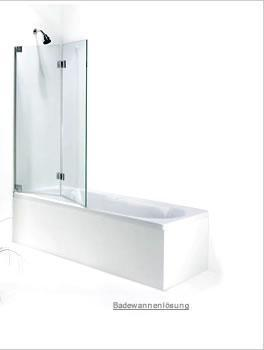Ducha: (17, 20, 86, 190)
